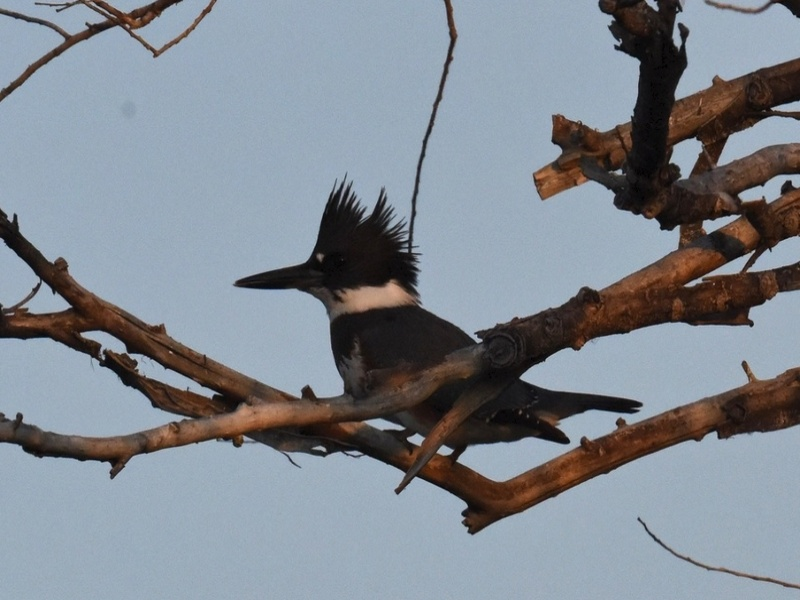kingfisher: (224, 177, 644, 459)
